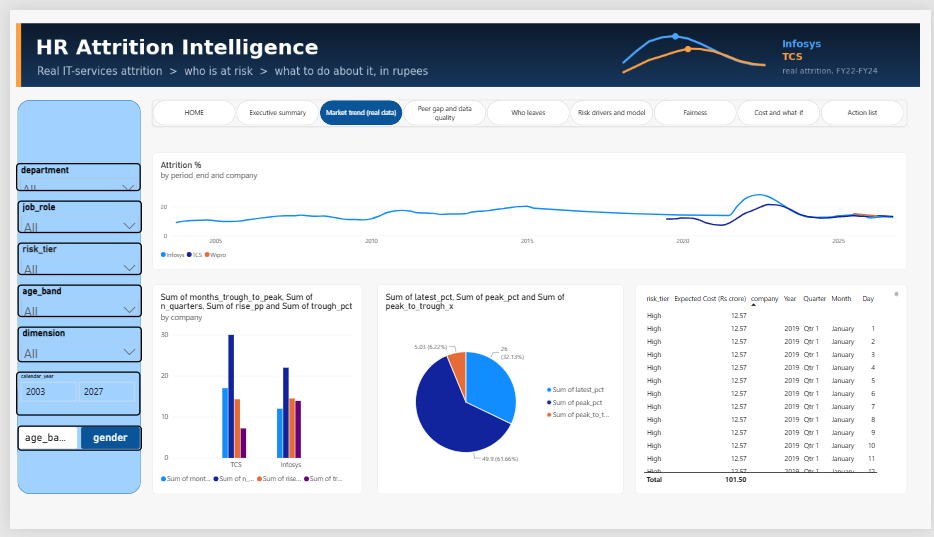

This screenshot's page, from the dashboard's own definition file:
{"tool":"powerbi","page":{"name":"Market trend (real data)","canvas":[1920,1080],"ordinal":2},"visuals":[{"type":"image","box":[12.2,16.7,1883.3,156.7],"z":0},{"type":"actionButton","box":[43,334.2,62,42.1],"z":0,"group":"g1"},{"type":"shape","box":[15.3,188.5,256.8,820.8],"z":1000,"group":"g1"},{"type":"tableEx","fields":{"Values":["dim_risk_tier.risk_tier","_Measures.Expected Cost (Rs crore)","mart attrition_cycle_summary.company","mart attrition_cycle_summary.series_start.Variation.Date Hierarchy.Year","mart attrition_cycle_summary.series_start.Variation.Date Hierarchy.Quarter","mart attrition_cycle_summary.series_start.Variation.Date Hierarchy.Month","mart attrition_cycle_summary.series_start.Variation.Date Hierarchy.Day"]},"box":[1302.7,572.6,565.5,436.6],"z":1000},{"type":"lineChart","fields":{"Category":["mart dim_quarter.period_end"],"Series":["mart dim_company.company"],"Y":["_Measures.Attrition %"]},"box":[295.9,295.9,1572.3,243.4],"z":2000},{"type":"pageNavigator","box":[295.9,188.5,1572.3,54.9],"z":3000},{"type":"slicer","fields":{"Values":["mart employee_action_list.job_role"]},"box":[14.8,397,259.6,67.8],"z":3000,"group":"g1"},{"type":"slicer","fields":{"Values":["dim_risk_tier.risk_tier"]},"box":[15.4,484.8,259.6,68],"z":4000,"group":"g1"},{"type":"pieChart","fields":{"Y":["Sum(mart attrition_cycle_summary.latest_pct)","Sum(mart attrition_cycle_summary.peak_pct)","Sum(mart attrition_cycle_summary.peak_to_trough_x)"]},"box":[765.9,572.6,513,436.6],"z":4000},{"type":"clusteredColumnChart","fields":{"Category":["mart attrition_cycle_summary.company"],"Y":["Sum(mart attrition_cycle_summary.months_trough_to_peak)","Sum(mart attrition_cycle_summary.n_quarters)","Sum(mart attrition_cycle_summary.rise_pp)","Sum(mart attrition_cycle_summary.trough_pct)"]},"box":[295.9,572.6,436.6,436.6],"z":5000},{"type":"group","id":"g1","title":"Group 2","box":[11.9,188.5,262.5,820.8],"z":6000},{"type":"slicer","fields":{"Values":["staging hr_employee.age_band"]},"box":[14.2,572.8,259.6,67.8],"z":6000,"group":"g1"},{"type":"slicer","fields":{"Values":["mart hr_attrition_by_segment.dimension"]},"box":[16,660.6,259.6,74.4],"z":7000,"group":"g1"},{"type":"slicer","fields":{"Values":["mart employee_action_list.department"]},"box":[11.9,318.5,260.1,58.5],"z":7500,"group":"g1"},{"type":"slicer","fields":{"Values":["mart dim_quarter.calendar_year"]},"box":[13,755.1,259.6,91.9],"z":8000,"group":"g1"},{"type":"advancedSlicerVisual","fields":{"Values":["fairness_by_group.dimension"]},"box":[13.6,867,259.6,52.5],"z":9500,"group":"g1"}]}

Visuals, with their boxes in screenshot pixels (x1, y1, x2, y2), scaled from the page's 1920x1080 canvas onto the 934x537 screenshot:
image: [6, 8, 922, 86]
actionButton: [21, 166, 51, 187]
shape: [7, 94, 132, 502]
tableEx - dim_risk_tier.risk_tier x _Measures.Expected Cost (Rs crore): [634, 285, 909, 502]
lineChart - mart dim_quarter.period_end x mart dim_company.company: [144, 147, 909, 268]
pageNavigator: [144, 94, 909, 121]
slicer - mart employee_action_list.job_role: [7, 197, 133, 231]
slicer - dim_risk_tier.risk_tier: [7, 241, 134, 275]
pieChart - Sum(mart attrition_cycle_summary.latest_pct) x Sum(mart attrition_cycle_summary.peak_pct): [373, 285, 622, 502]
clusteredColumnChart - mart attrition_cycle_summary.company x Sum(mart attrition_cycle_summary.months_trough_to_peak): [144, 285, 356, 502]
"Group 2" group: [6, 94, 133, 502]
slicer - staging hr_employee.age_band: [7, 285, 133, 319]
slicer - mart hr_attrition_by_segment.dimension: [8, 328, 134, 365]
slicer - mart employee_action_list.department: [6, 158, 132, 187]
slicer - mart dim_quarter.calendar_year: [6, 375, 133, 421]
advancedSlicerVisual - fairness_by_group.dimension: [7, 431, 133, 457]
